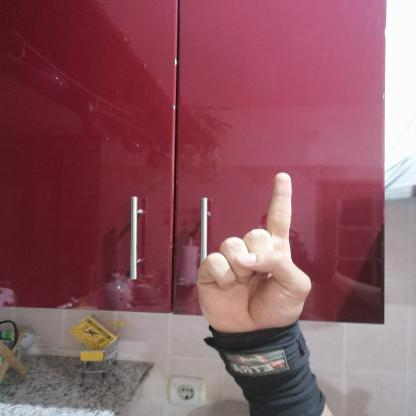BAA: (182, 162, 324, 348)
